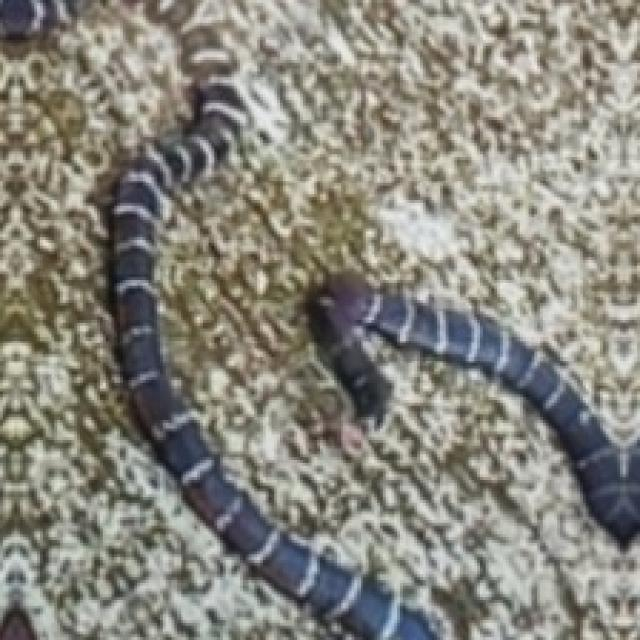barredcoral snake: (111, 46, 434, 637), (309, 271, 637, 540)
